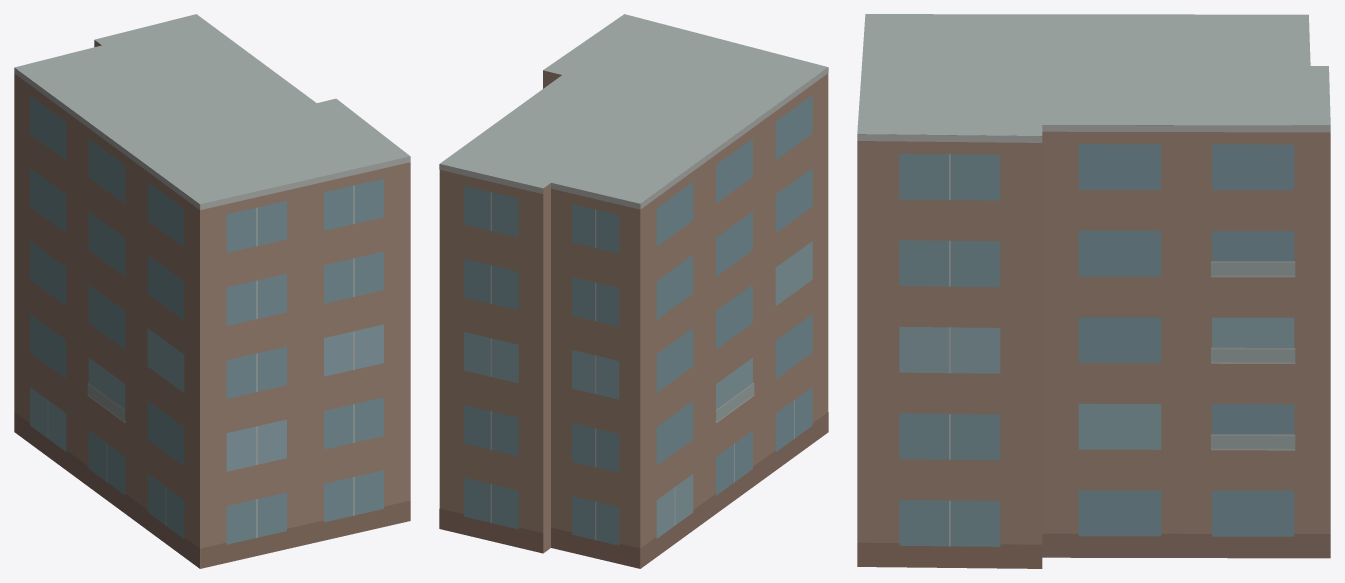
Rendered from survey-upis-32686353.glb.
The picture shows the model from 3 angles, left to right: view 1: azimuth 30°, elevation 25°; view 2: azimuth 150°, elevation 25°; view 3: azimuth 270°, elevation 25°; orthographic projection. The views are drawn at different scales.
Parts seen in each view (by area): view 1: survey-upis-32686353.tmp; view 2: survey-upis-32686353.tmp; view 3: survey-upis-32686353.tmp.
Part boxes in pixels (<box>): survey-upis-32686353.tmp: <box>14,14,410,568</box>; survey-upis-32686353.tmp: <box>439,14,828,568</box>; survey-upis-32686353.tmp: <box>857,14,1330,568</box>.
Size of the model in its own units: 9.25 by 15.25 by 15.13.
